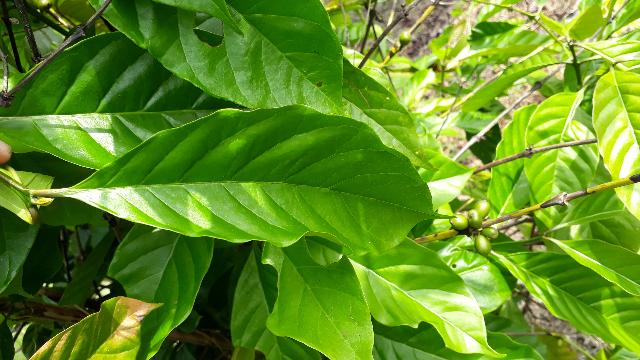healthy: (41, 100, 466, 259)
